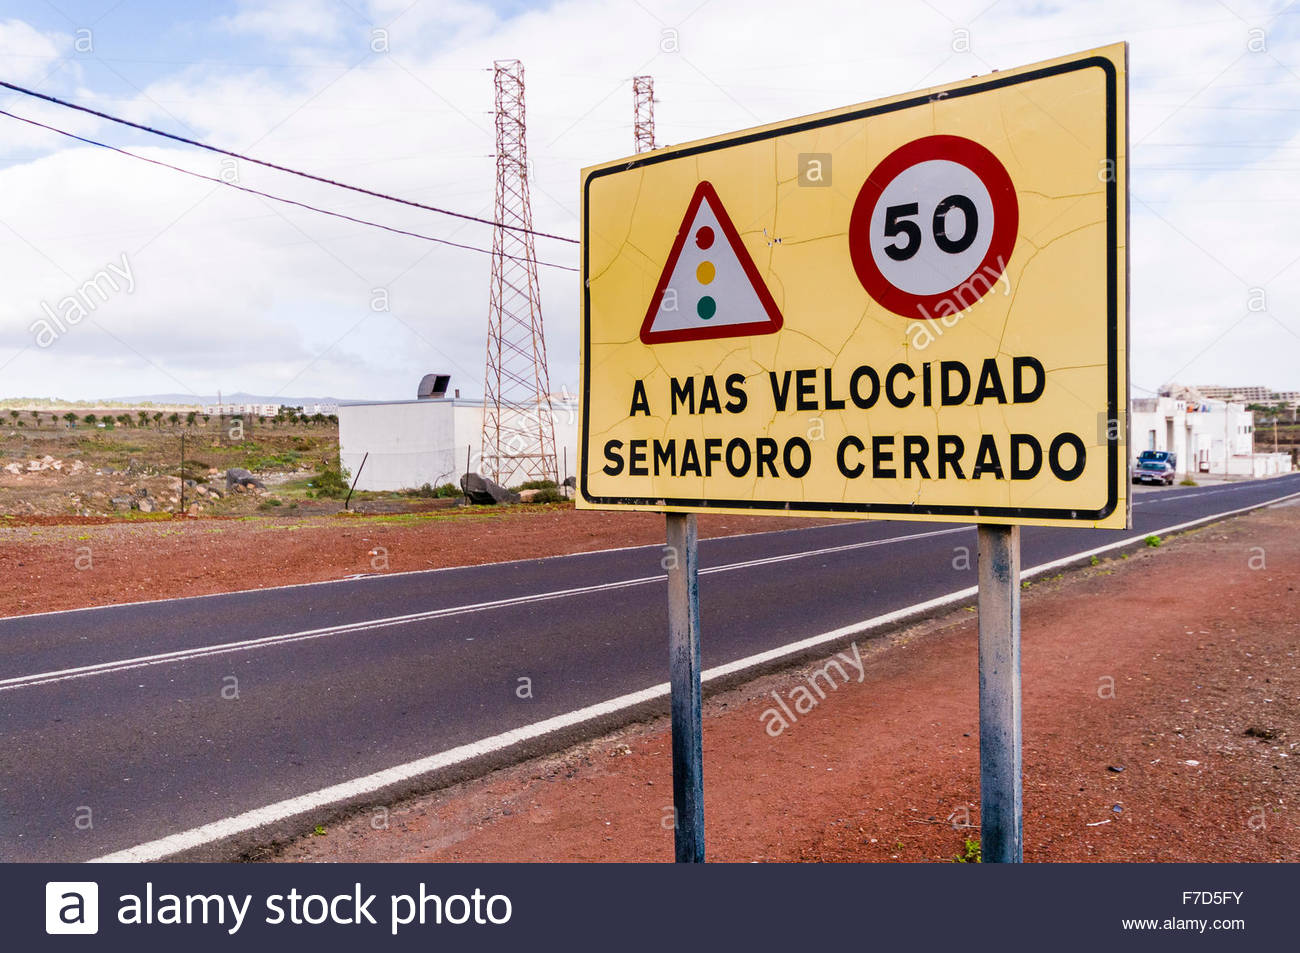speed_limit_50: (850, 135, 1015, 319)
